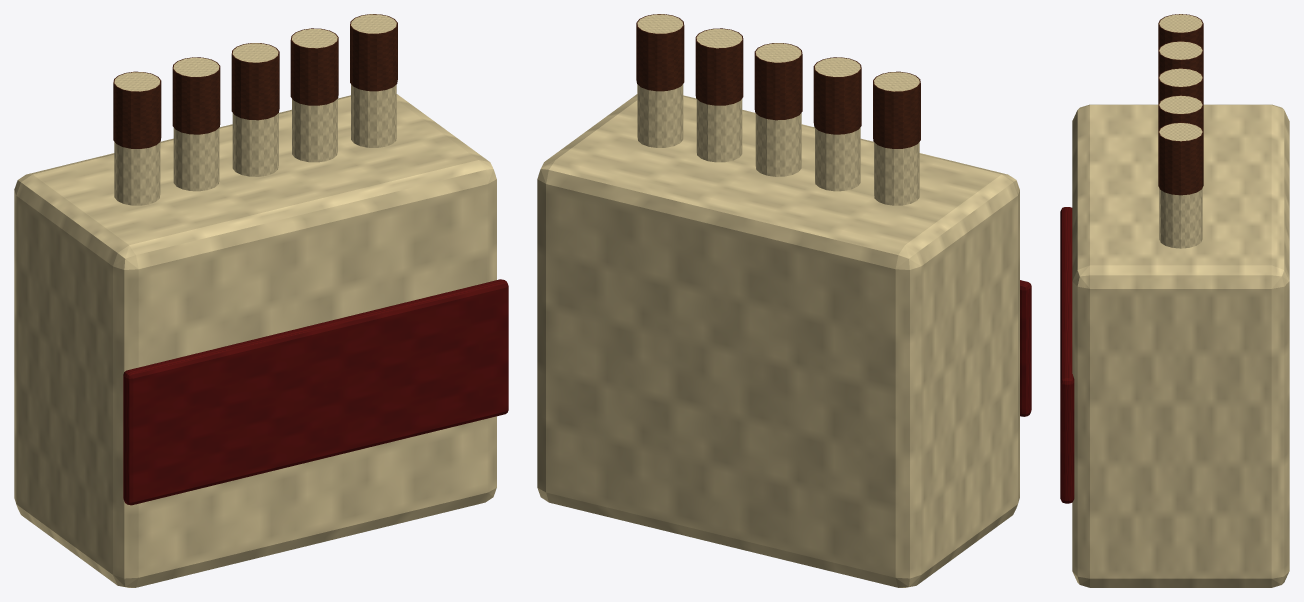
Rendered from cigarette-pack-v1-BUlSQexz.glb.
3 renders of one model, left to right at view 1: azimuth 30°, elevation 25°; view 2: azimuth 150°, elevation 25°; view 3: azimuth 270°, elevation 25°, orthographic. The views are drawn at different scales.
Parts seen in each view (by area): view 1: Unbranded cigarette pack, Burgundy pack band, Cigarette filter; view 2: Unbranded cigarette pack, Cigarette filter, Burgundy pack band; view 3: Unbranded cigarette pack, Cigarette filter, Burgundy pack band.
Boxes of the visible parts, x1,y1,x2,y2 form: Unbranded cigarette pack: (14, 14, 496, 587); Burgundy pack band: (123, 279, 508, 505); Cigarette filter: (113, 14, 397, 148); Unbranded cigarette pack: (537, 14, 1019, 587); Cigarette filter: (636, 14, 920, 148); Burgundy pack band: (1020, 280, 1031, 416); Unbranded cigarette pack: (1072, 14, 1289, 587); Cigarette filter: (1158, 14, 1203, 195); Burgundy pack band: (1060, 207, 1074, 503).
Bounding box in the file's own units: 0.42 × 0.48 × 0.232.
Materials: 3 (3 with a texture image).
